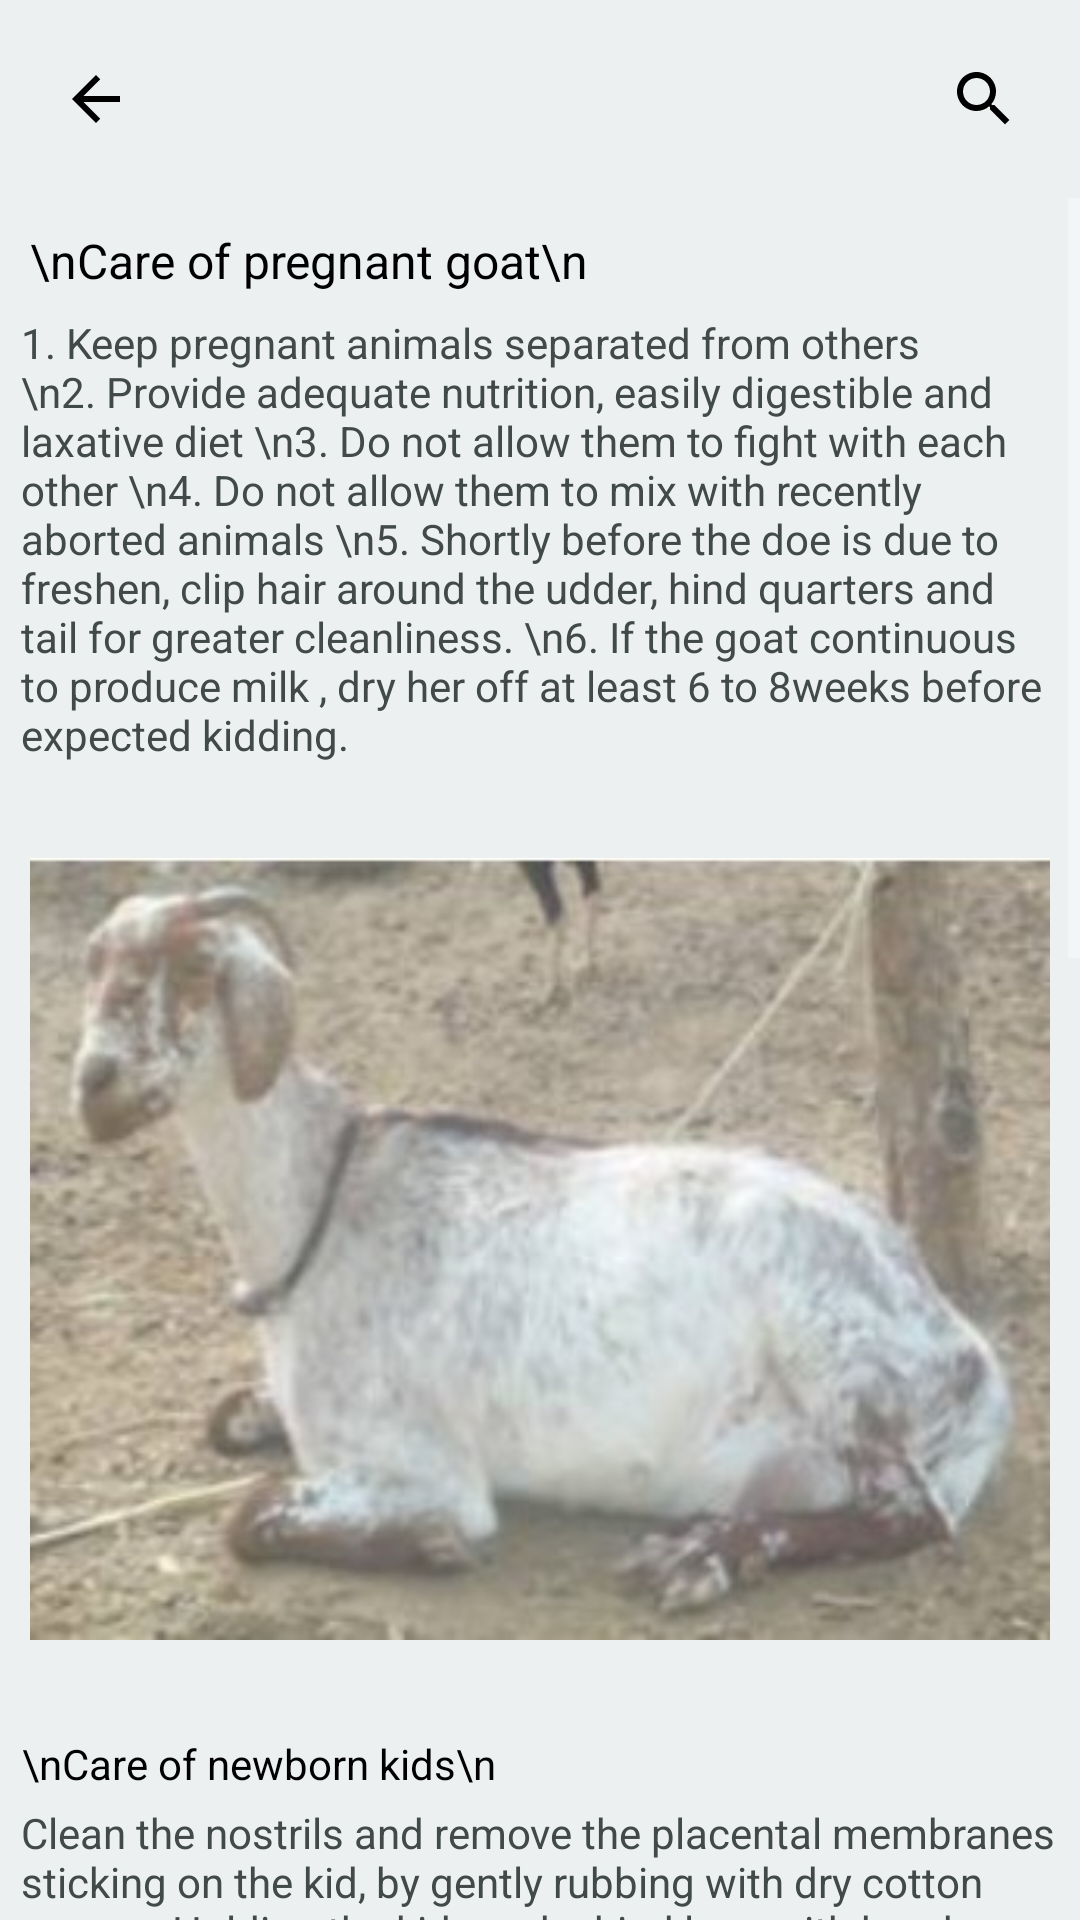

Icon click points for this 1080w x 1920h phone screenshot, format point (x, y):
arrow back: point (96, 99)
search: point (983, 98)
